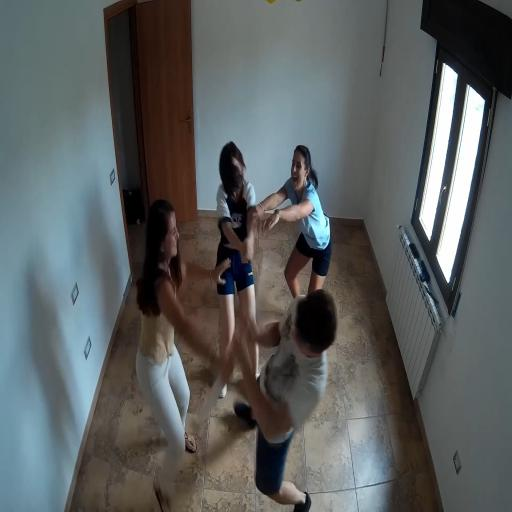violencia: (114, 194, 344, 512), (208, 126, 344, 402)
